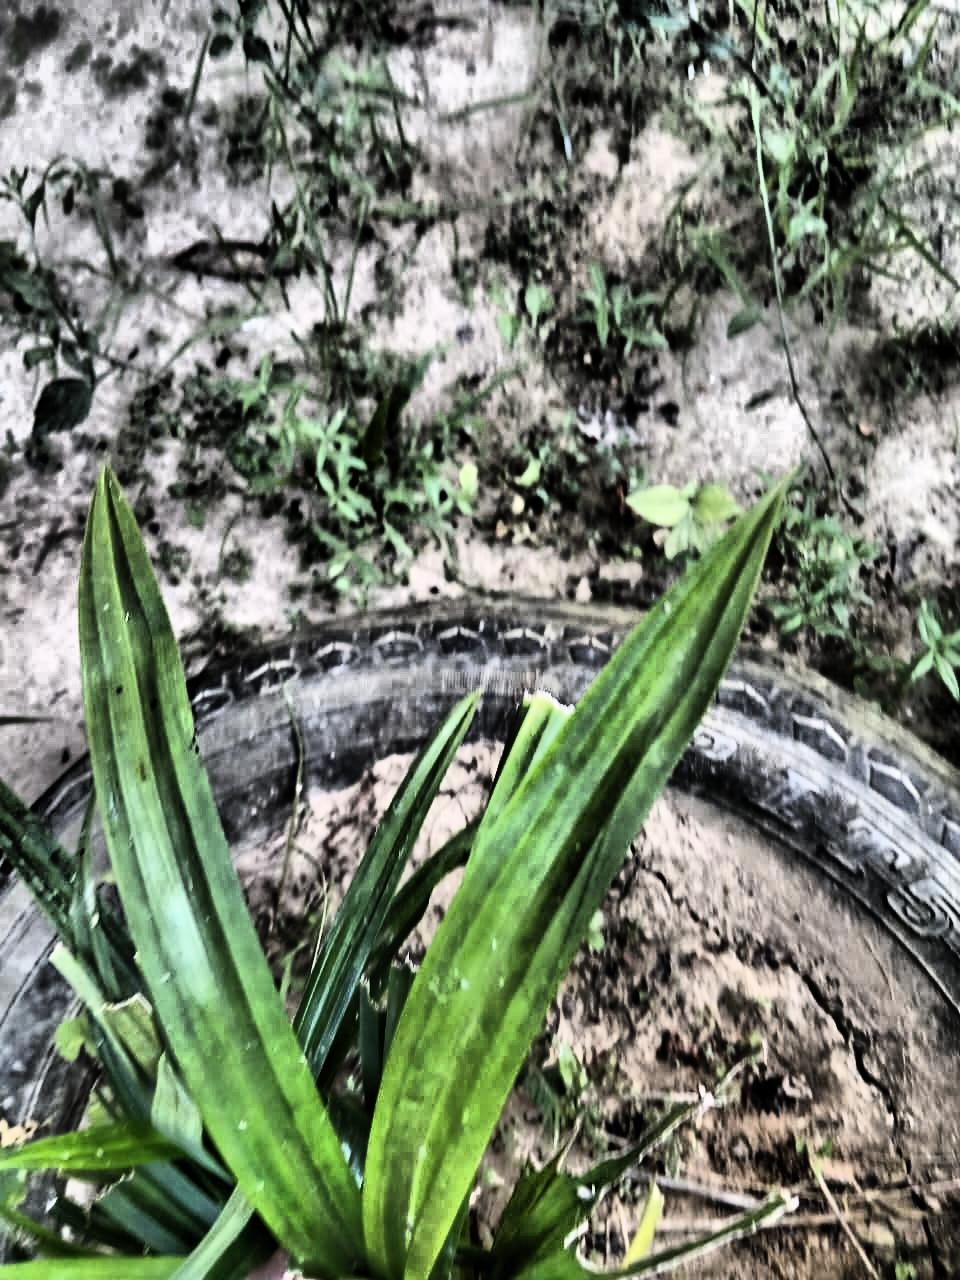daun pandan: (0, 467, 785, 1279)
